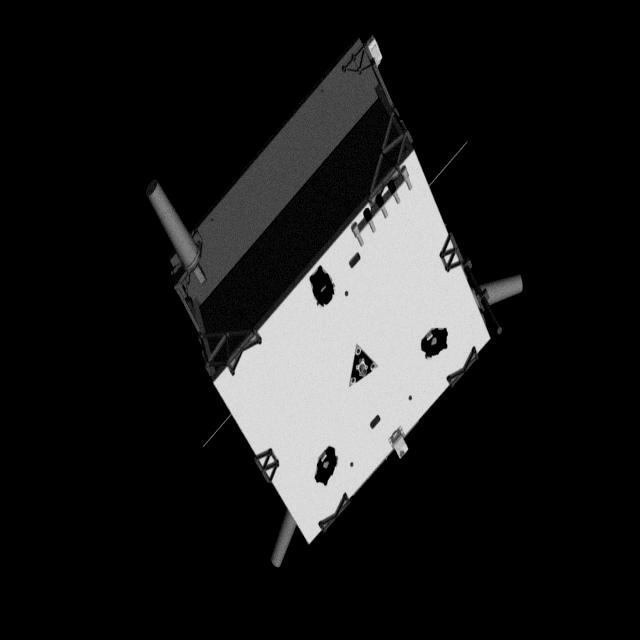satellite: (136, 30, 524, 580)
